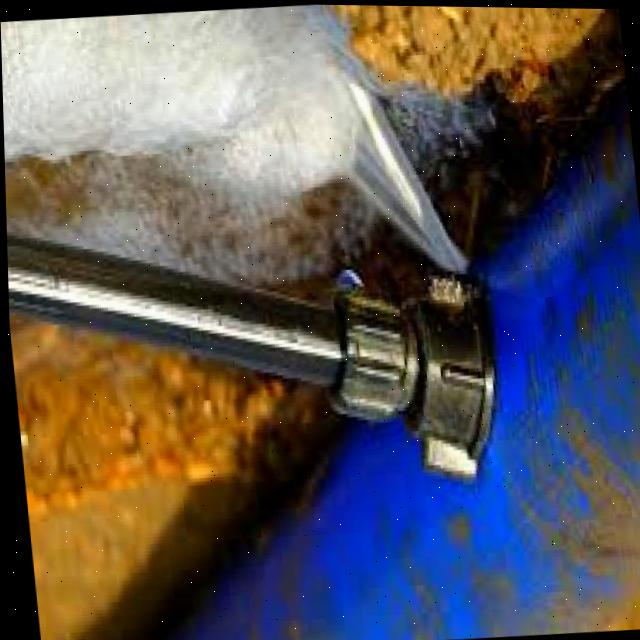corrosion: (393, 167, 524, 332)
